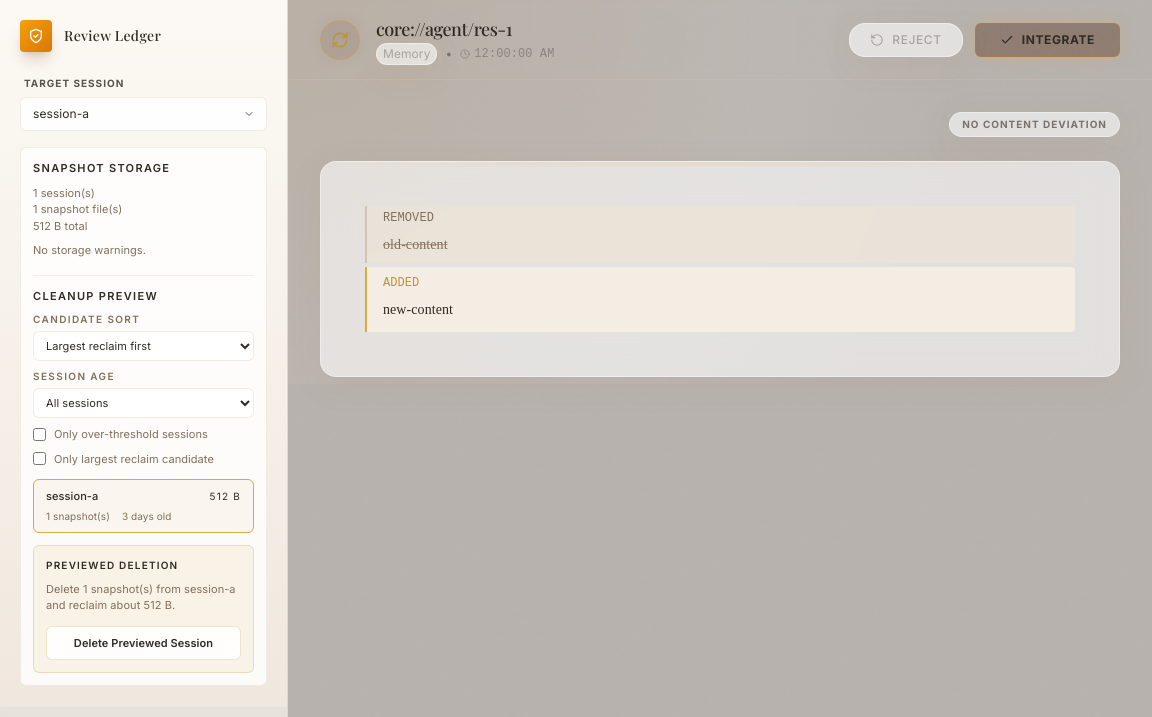
ReviewPage › surfaces partial success when rollback succeeds but snapshot cleanup fails
This screenshot has width=1152, height=717.
What coordinates should you click on to do the following:
click the button "Reject"
I would click on:
 (906, 40)
Its box is left=849, top=22, right=963, bottom=56.
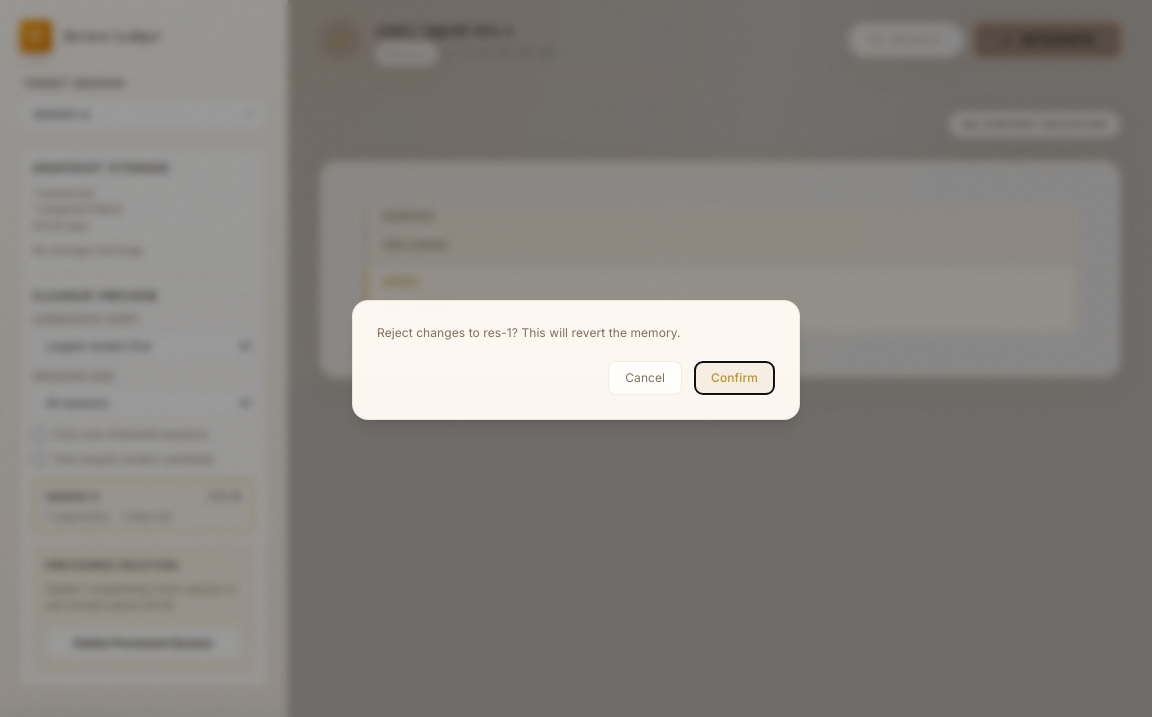
What coordinates should you click on to do the following:
click the button "Confirm"
I would click on:
 (735, 378)
Its box is left=694, top=361, right=775, bottom=395.
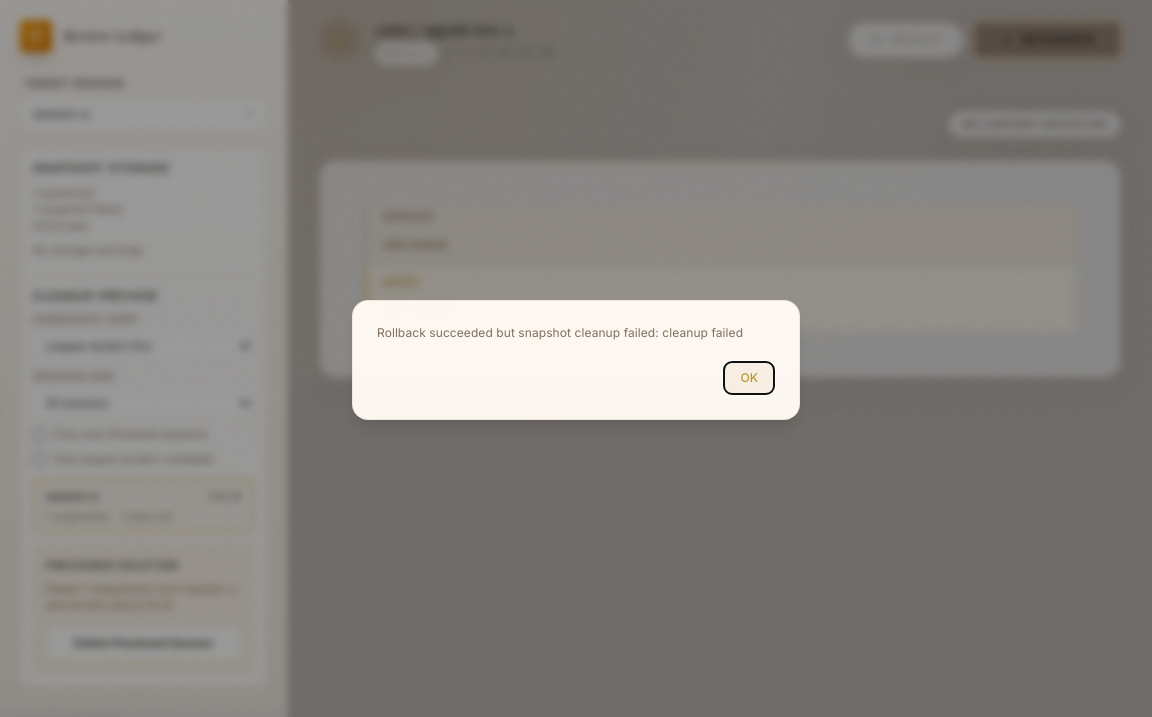
Result: the dialog shows "cleanup failed" at left=377, top=325, right=743, bottom=340
